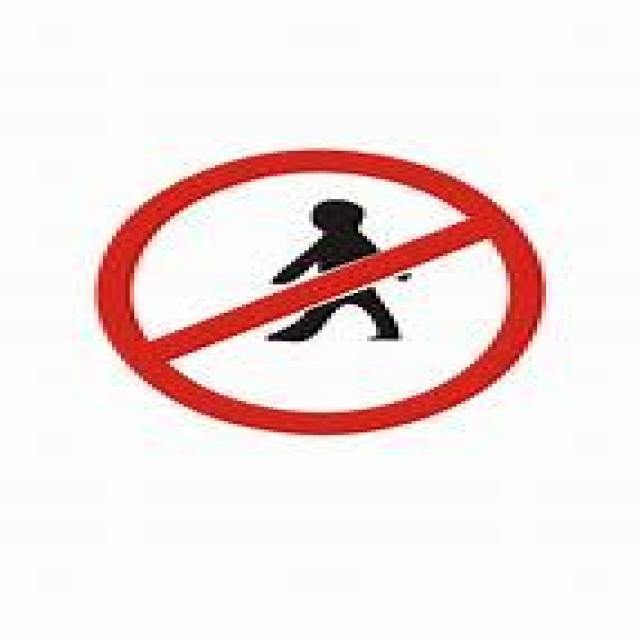Priority road: (90, 145, 546, 435)
